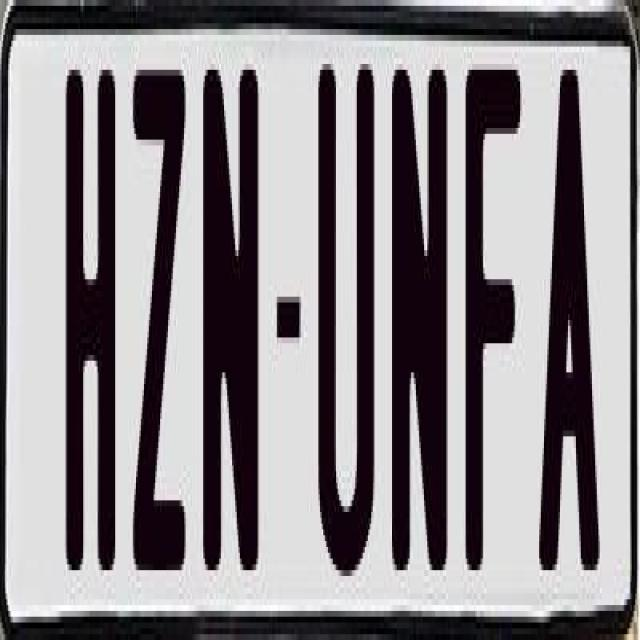A: (538, 70, 607, 576)
F: (463, 52, 519, 588)
H: (63, 64, 122, 576)
N: (200, 59, 254, 565), (390, 70, 444, 576)
U: (314, 64, 370, 588)
Z: (130, 58, 183, 570)
